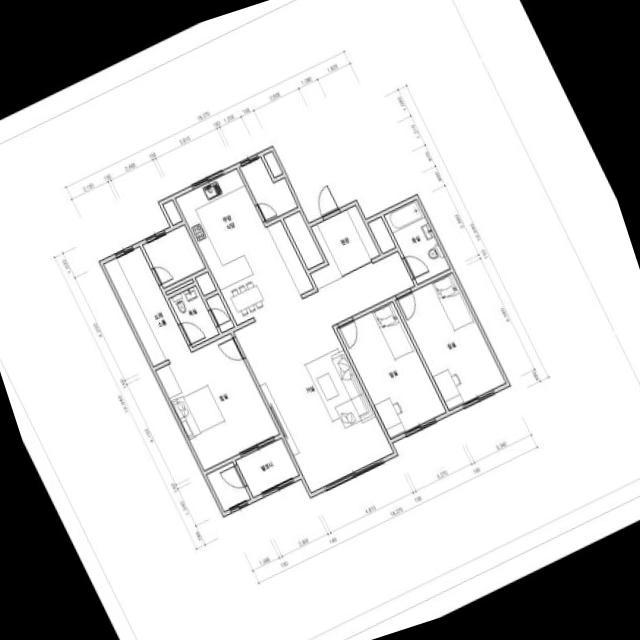background: (0, 0, 640, 640)
space_balconi: (236, 439, 299, 497)
space_bedroom: (156, 334, 280, 471), (396, 273, 506, 410), (337, 302, 446, 438)
space_dressroom: (104, 247, 192, 366), (384, 200, 450, 284), (143, 225, 205, 288)
space_front: (311, 205, 380, 289)
space_kitchen: (176, 169, 314, 325)
space_living_room: (234, 251, 415, 492)
space_other: (240, 157, 297, 222), (284, 211, 324, 269), (207, 462, 250, 511), (369, 217, 396, 253), (264, 151, 283, 177), (163, 200, 182, 225), (196, 272, 216, 295), (166, 279, 194, 294)
space_toilet: (169, 286, 219, 347), (207, 294, 234, 332)
